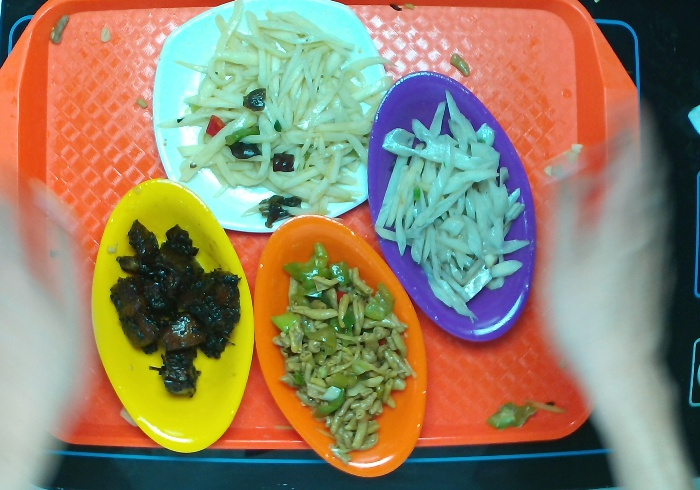RJxy-Fen_Hong_Tuo_Yuan: (366, 64, 539, 344)
RJxy-Huang_Se_Tuo_Yuan: (93, 180, 251, 455)
RJxy-Ju_Huang_Tuo_Yuan: (254, 214, 430, 490)
RJxy-Si_Fang_Die: (144, 1, 400, 234)
